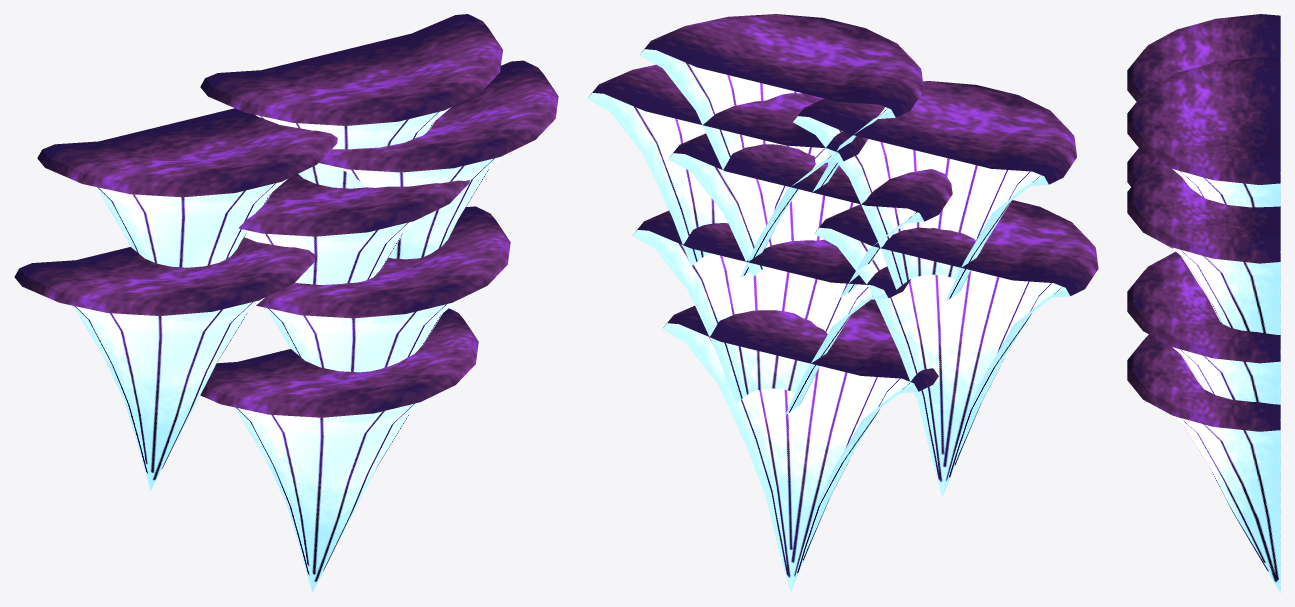
File: Wallshroom.fbx
3 renders of one model, left to right at view 1: azimuth 30°, elevation 25°; view 2: azimuth 150°, elevation 25°; view 3: azimuth 270°, elevation 25°, orthographic. The views are drawn at different scales.
Visible parts, largest first — view 1: Wallshroom; view 2: Wallshroom; view 3: Wallshroom.
Boxes of the visible parts, x1,y1,x2,y2 form: Wallshroom: (14,14,558,592); Wallshroom: (587,14,1098,592); Wallshroom: (1127,14,1280,592).
Size of the model in its own units: 65.19 by 65.03 by 18.4.
